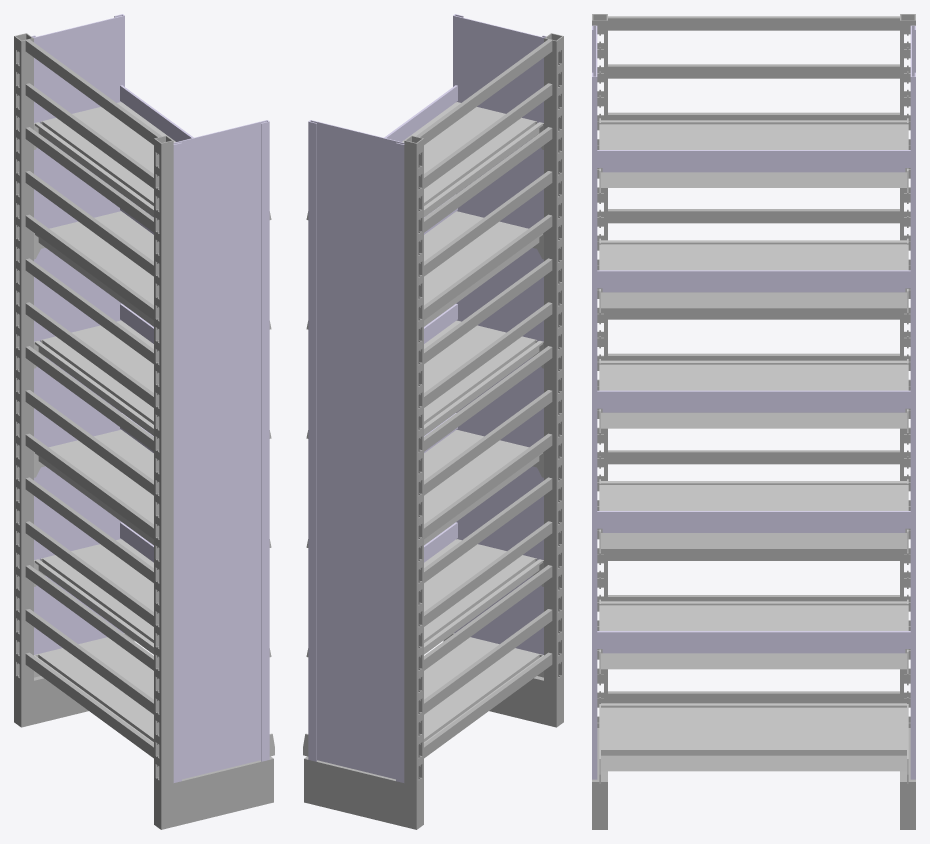
File: PARTA001.glb
The picture shows the model from 3 angles, left to right: view 1: azimuth 30°, elevation 25°; view 2: azimuth 150°, elevation 25°; view 3: azimuth 270°, elevation 25°; orthographic projection. The views are drawn at different scales.
Visible parts, largest first — view 1: 3DGeom-3, 3DGeom-1, 3DGeom-2; view 2: 3DGeom-3, 3DGeom-1, 3DGeom-2; view 3: 3DGeom-2, 3DGeom-1, 3DGeom-3.
Part boxes in pixels (x1,y1,x2,y2): 3DGeom-3: (31, 14, 269, 782); 3DGeom-1: (14, 33, 273, 829); 3DGeom-2: (34, 102, 274, 756); 3DGeom-3: (308, 14, 546, 782); 3DGeom-1: (304, 33, 563, 829); 3DGeom-2: (303, 102, 543, 756); 3DGeom-2: (599, 118, 908, 783); 3DGeom-1: (592, 14, 915, 829); 3DGeom-3: (592, 25, 915, 779).
Size of the model in its own units: 0.28 by 1.57 by 0.61.
